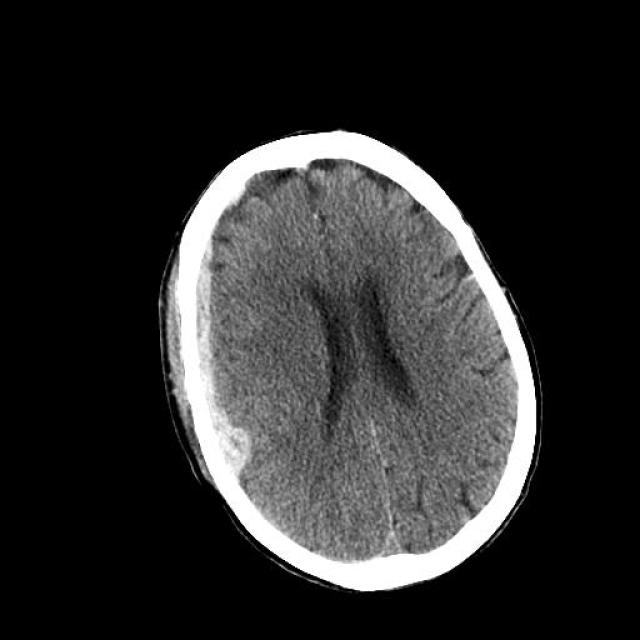Subdural: (192, 219, 260, 486)
